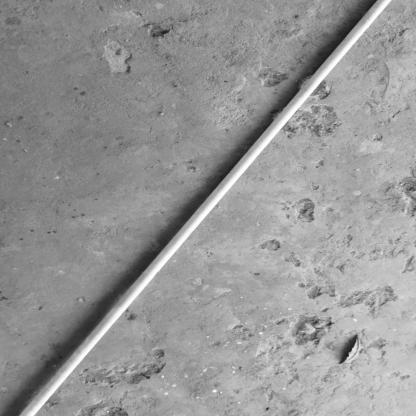PVC: (19, 0, 397, 416)
